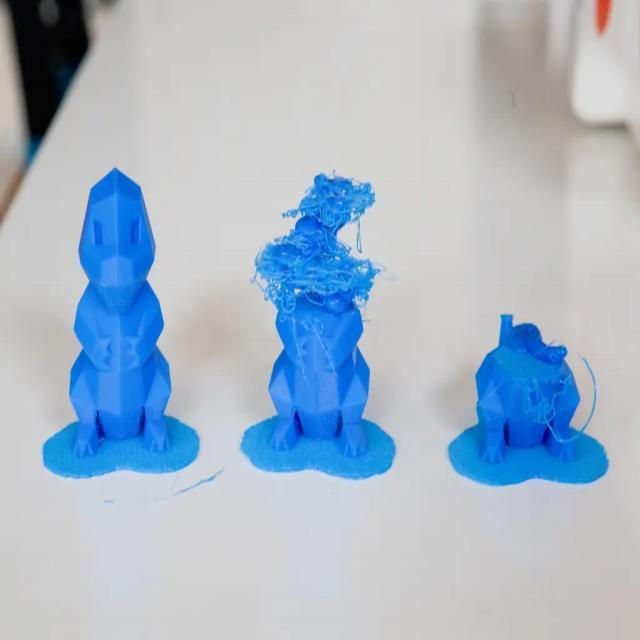spaghetti: (265, 159, 381, 315)
